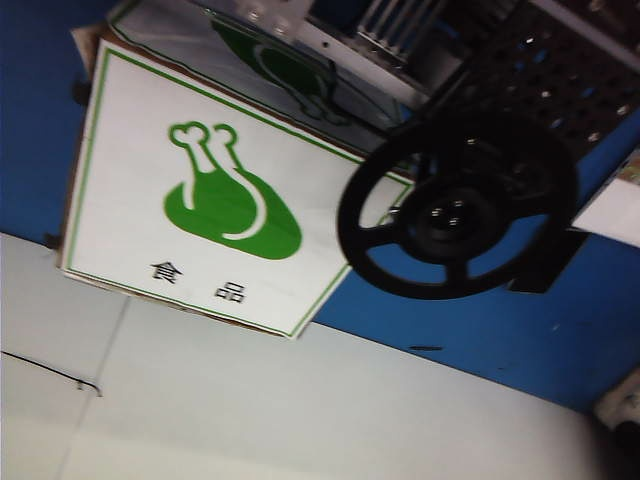Cube_food: (145, 111, 312, 316)
